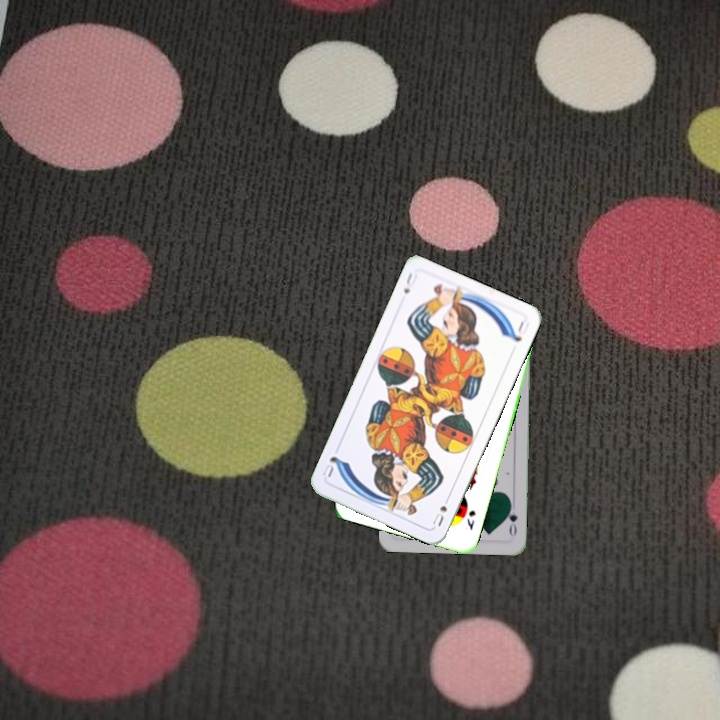GO: (503, 499, 520, 539)
SK: (463, 506, 478, 533)
SU: (428, 491, 453, 529), (400, 269, 420, 296)
